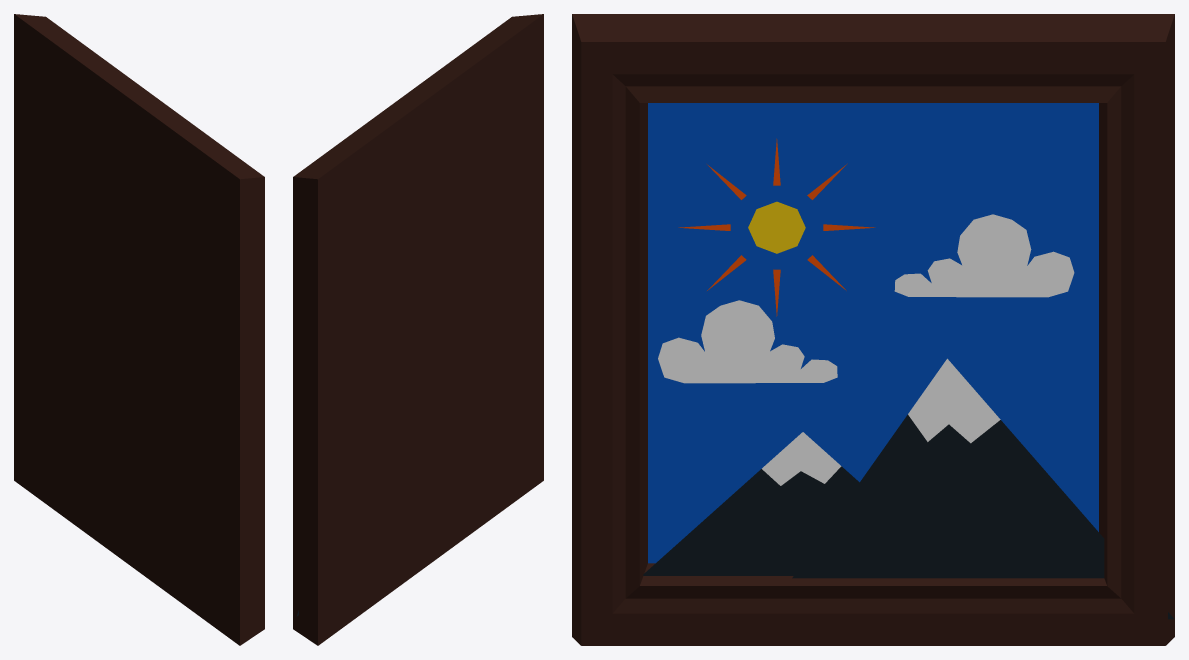
The picture shows the model from 3 angles, left to right: view 1: azimuth 30°, elevation 25°; view 2: azimuth 150°, elevation 25°; view 3: azimuth 270°, elevation 25°; orthographic projection. The views are drawn at different scales.
Visible parts, largest first — view 1: Wall_Painting_01_Plane002-Mesh; view 2: Wall_Painting_01_Plane002-Mesh; view 3: Wall_Painting_01_Plane002-Mesh, Wall_Painting_01_Plane002-Mesh_1, Wall_Painting_01_Plane002-Mesh_3, Wall_Painting_01_Plane002-Mesh_2, Wall_Painting_01_Plane002-Mesh_4, Wall_Painting_01_Plane002-Mesh_5.
Boxes of the visible parts, box(x1,y1,x2,y2) form: Wall_Painting_01_Plane002-Mesh: box(14, 14, 264, 645); Wall_Painting_01_Plane002-Mesh: box(293, 14, 543, 645); Wall_Painting_01_Plane002-Mesh: box(572, 14, 1174, 645); Wall_Painting_01_Plane002-Mesh_1: box(648, 103, 1098, 563); Wall_Painting_01_Plane002-Mesh_3: box(643, 414, 1174, 619); Wall_Painting_01_Plane002-Mesh_2: box(658, 214, 1074, 485); Wall_Painting_01_Plane002-Mesh_4: box(748, 201, 805, 253); Wall_Painting_01_Plane002-Mesh_5: box(678, 138, 875, 316).
Bounding box in the file's own units: 0.6554 × 10.04 × 8.8.
